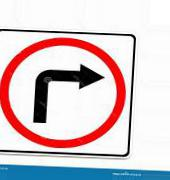right: (1, 34, 127, 151)
